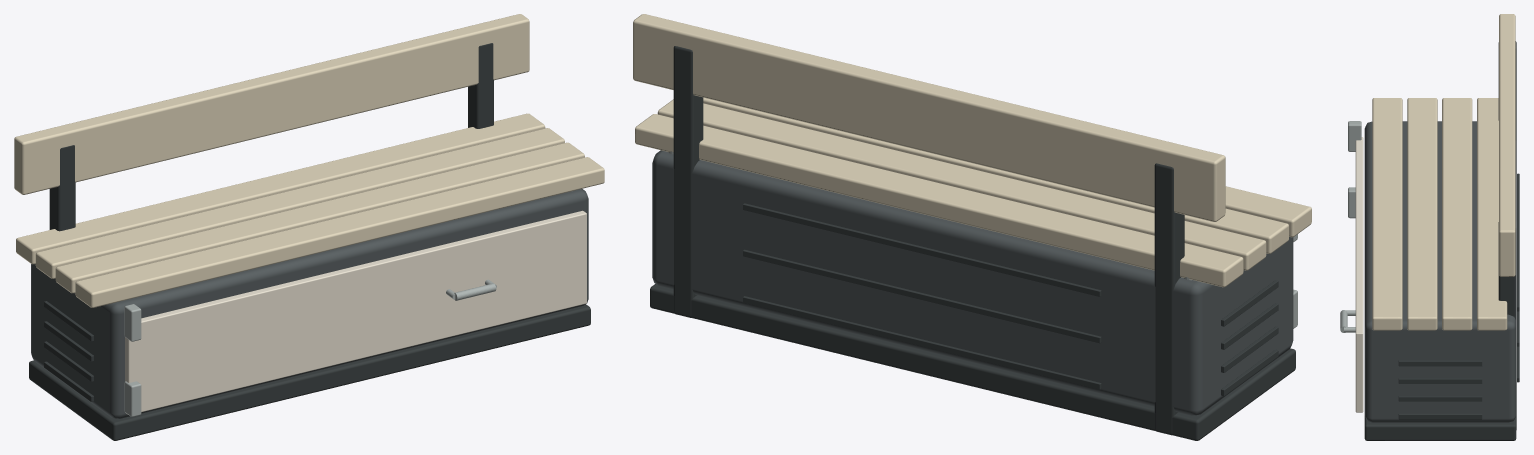
The model's file is canal-boats-and-lock-operations-canal-boats-and-lock-o-405b277a__31663.glb.
3 views of the same model, side by side, from view 1: azimuth 30°, elevation 25°; view 2: azimuth 150°, elevation 25°; view 3: azimuth 270°, elevation 25° (orthographic). The views are drawn at different scales.
Visible parts, largest first — view 1: canal-boats-and-lock-operations-waterside-bench-with-tackle- (×5); view 2: canal-boats-and-lock-operations-waterside-bench-with-tackle- (×3); view 3: canal-boats-and-lock-operations-waterside-bench-with-tackle- (×5).
Boxes of the visible parts, box(x1,y1,x2,y2) form: canal-boats-and-lock-operations-waterside-bench-with-tackle- (×5): box(14, 14, 604, 440); canal-boats-and-lock-operations-waterside-bench-with-tackle- (×3): box(633, 14, 1311, 440); canal-boats-and-lock-operations-waterside-bench-with-tackle- (×5): box(1340, 14, 1519, 440).
Bounding box in the file's own units: 1.72 × 0.7899 × 0.5905.
